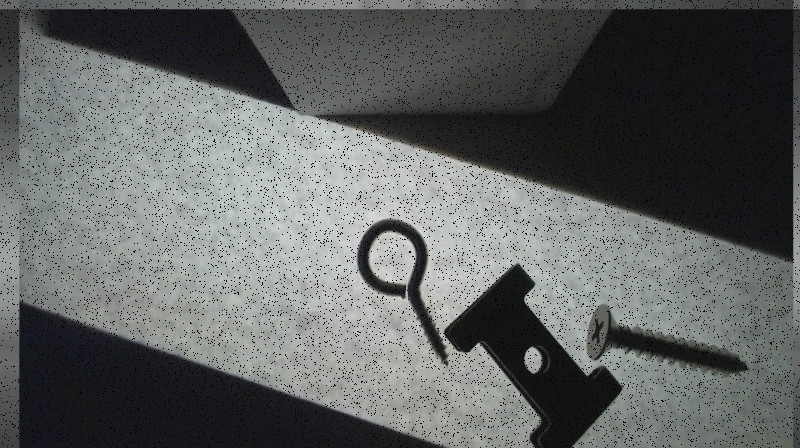O001: (354, 216, 449, 369)
O002: (442, 261, 625, 447)
S001: (582, 299, 751, 379)
